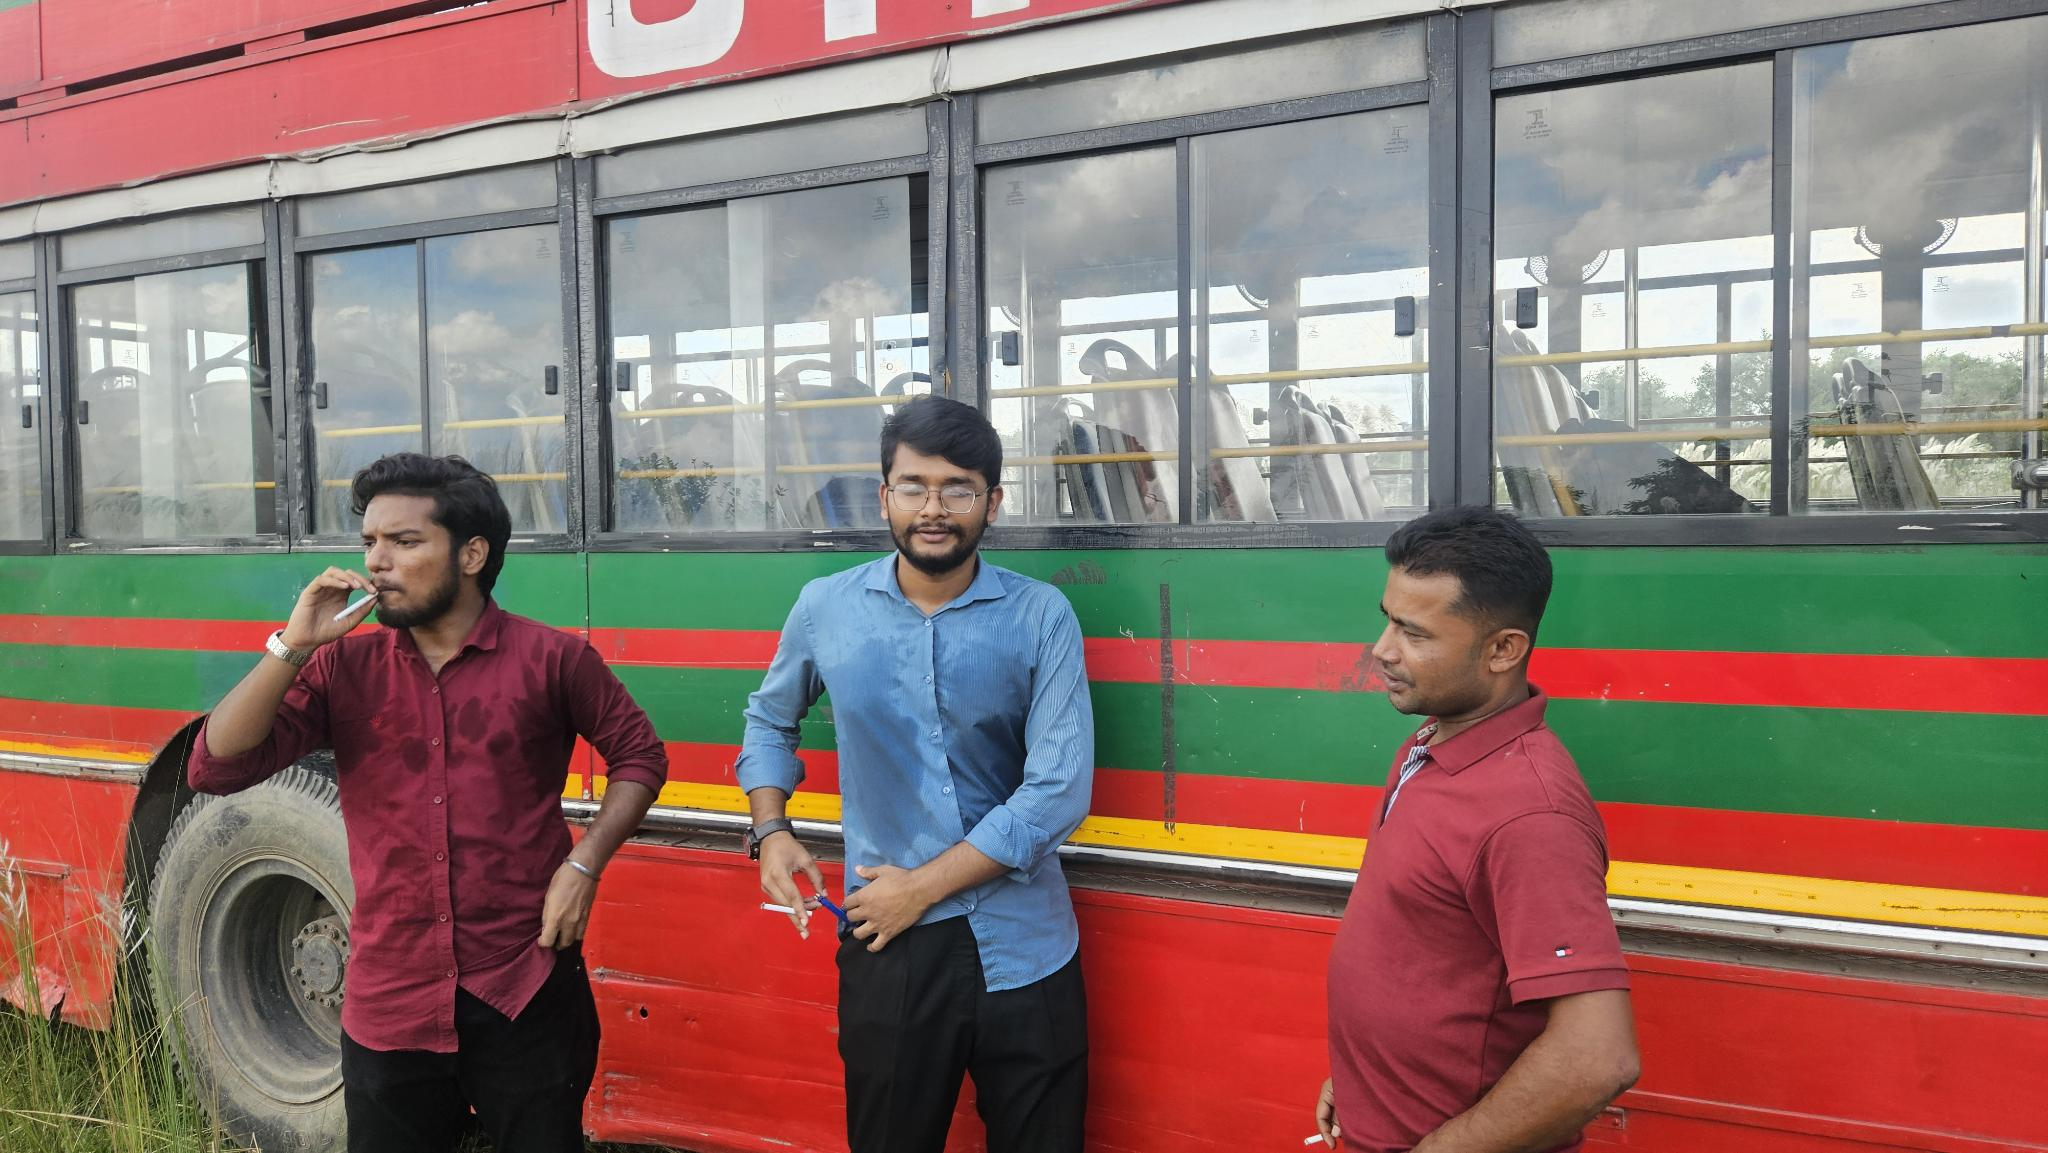cigarette: (331, 588, 381, 624), (760, 900, 814, 918), (1303, 1132, 1326, 1146)
smoker: (187, 451, 670, 1153), (733, 392, 1096, 1153), (1314, 505, 1641, 1153)
